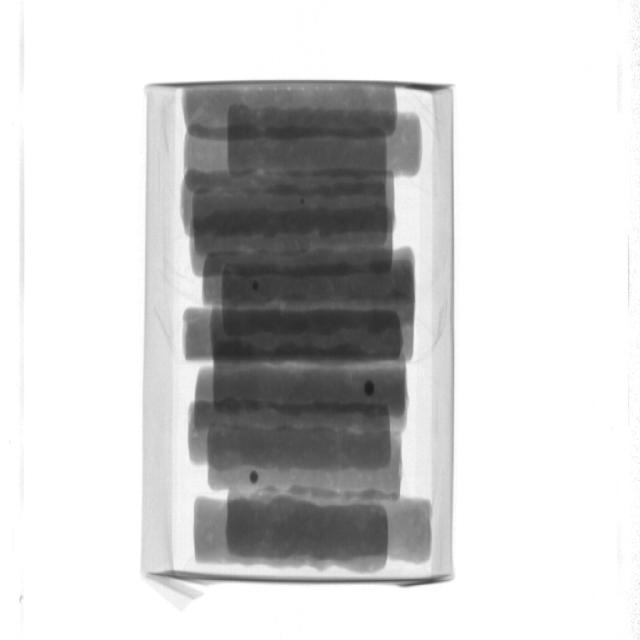ym: (364, 381, 375, 397), (299, 195, 307, 210), (250, 471, 260, 482), (253, 282, 261, 291)
